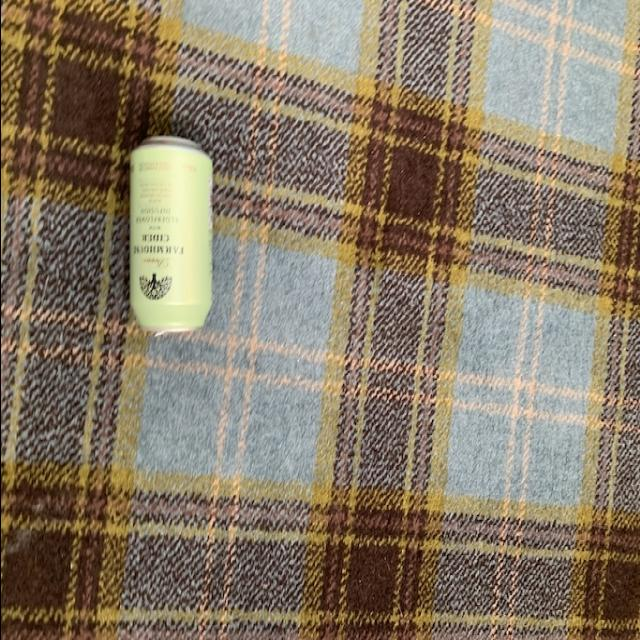Aluminum Can: (122, 132, 214, 338)
